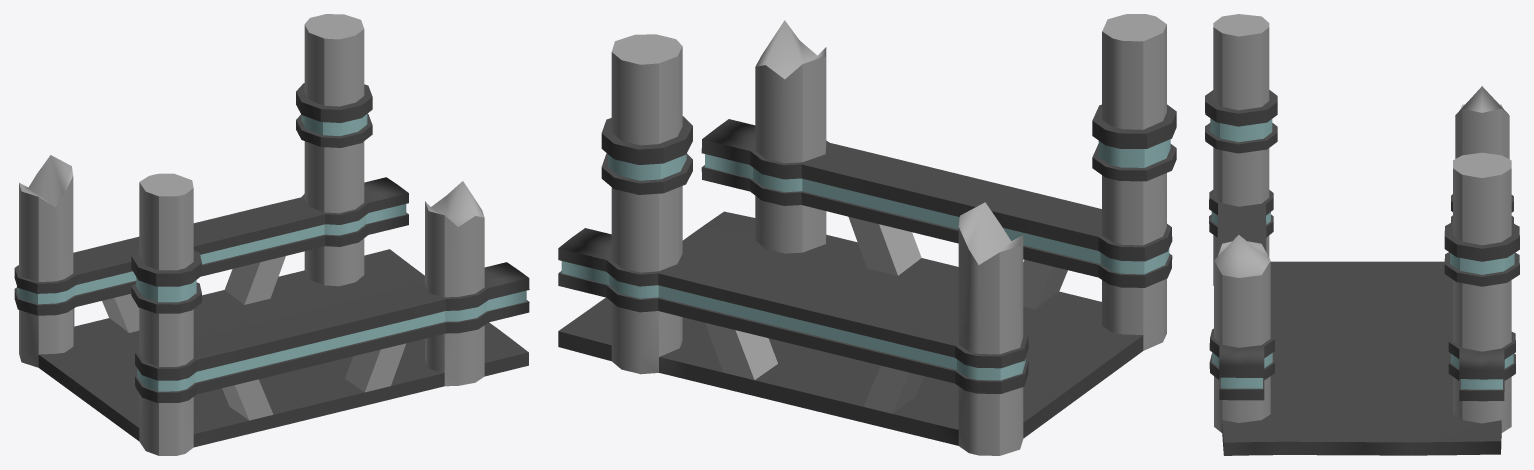
File: puente modular.fbx
The picture shows the model from 3 angles, left to right: view 1: azimuth 30°, elevation 25°; view 2: azimuth 150°, elevation 25°; view 3: azimuth 270°, elevation 25°; orthographic projection. The views are drawn at different scales.
Parts seen in each view (by area): view 1: broken_bridge_modular; view 2: broken_bridge_modular; view 3: broken_bridge_modular.
Boxes of the visible parts, left/top/right/bottom form: broken_bridge_modular: left=14, top=14, right=529, bottom=455; broken_bridge_modular: left=558, top=14, right=1176, bottom=455; broken_bridge_modular: left=1205, top=14, right=1519, bottom=455.
Size of the model in its own units: 2.47 by 1.6 by 1.76.
